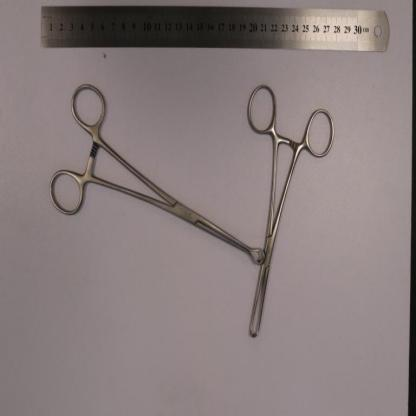8 Babcock Tissue Forceps: (49, 81, 266, 268)
Allis Tissue Forceps: (246, 83, 336, 338)
